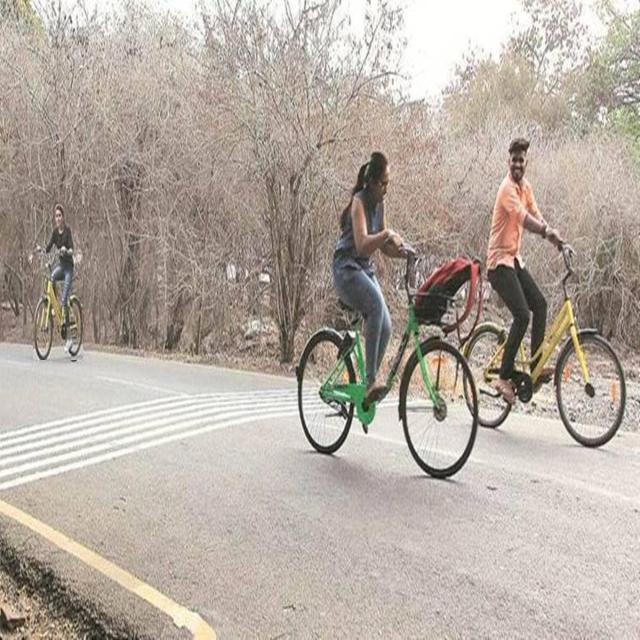bicycle: (298, 153, 478, 477), (465, 137, 625, 446), (34, 204, 83, 360)
